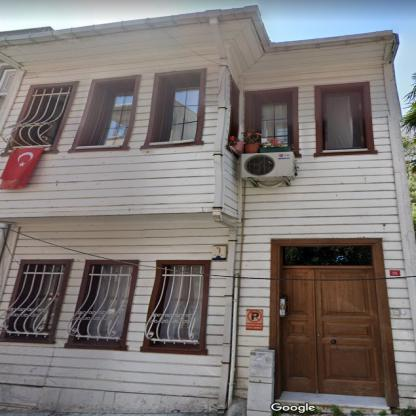door: (286, 270, 384, 394)
window: (83, 266, 132, 338), (157, 266, 202, 341), (14, 266, 62, 334), (17, 95, 67, 146), (322, 93, 364, 150), (166, 86, 198, 141), (99, 95, 132, 145), (282, 246, 371, 264), (258, 102, 289, 144)
